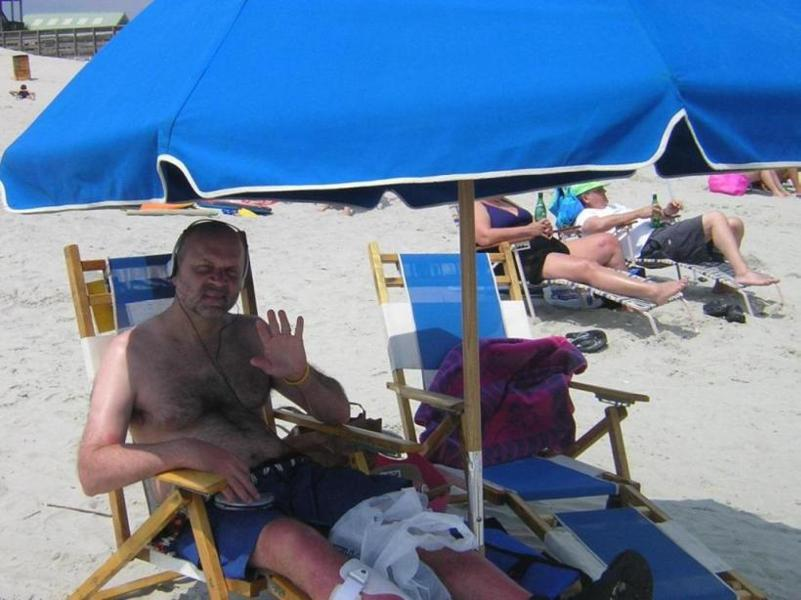person: (77, 219, 656, 600)
